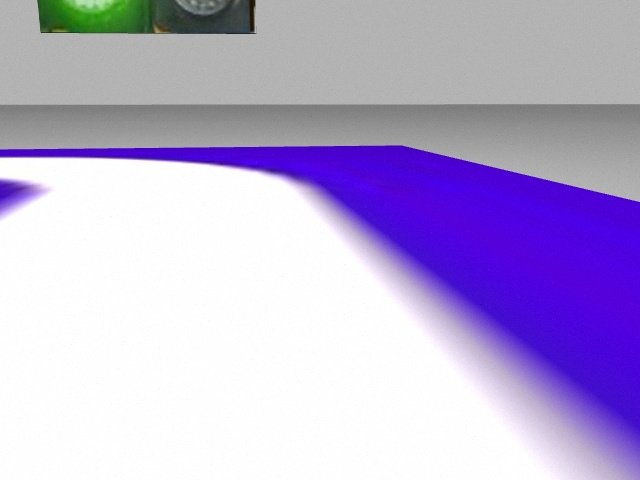green: (38, 2, 153, 35)
